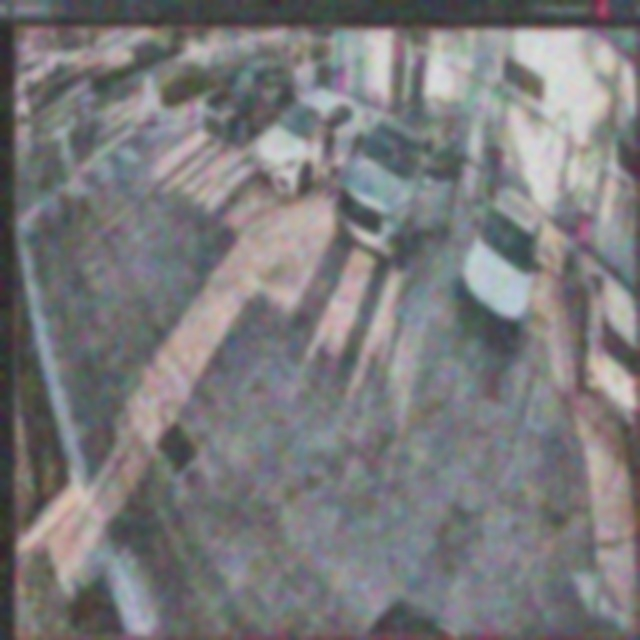Car: (331, 98, 460, 266), (460, 187, 542, 354), (255, 89, 368, 193), (203, 62, 290, 140)
